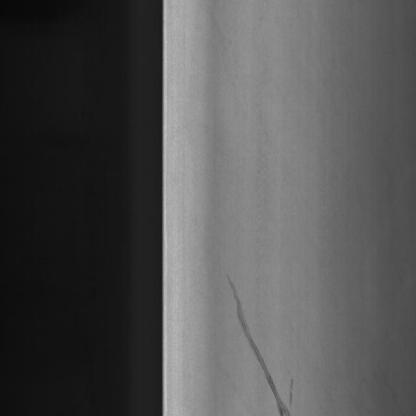water_spot: (221, 259, 309, 416)
